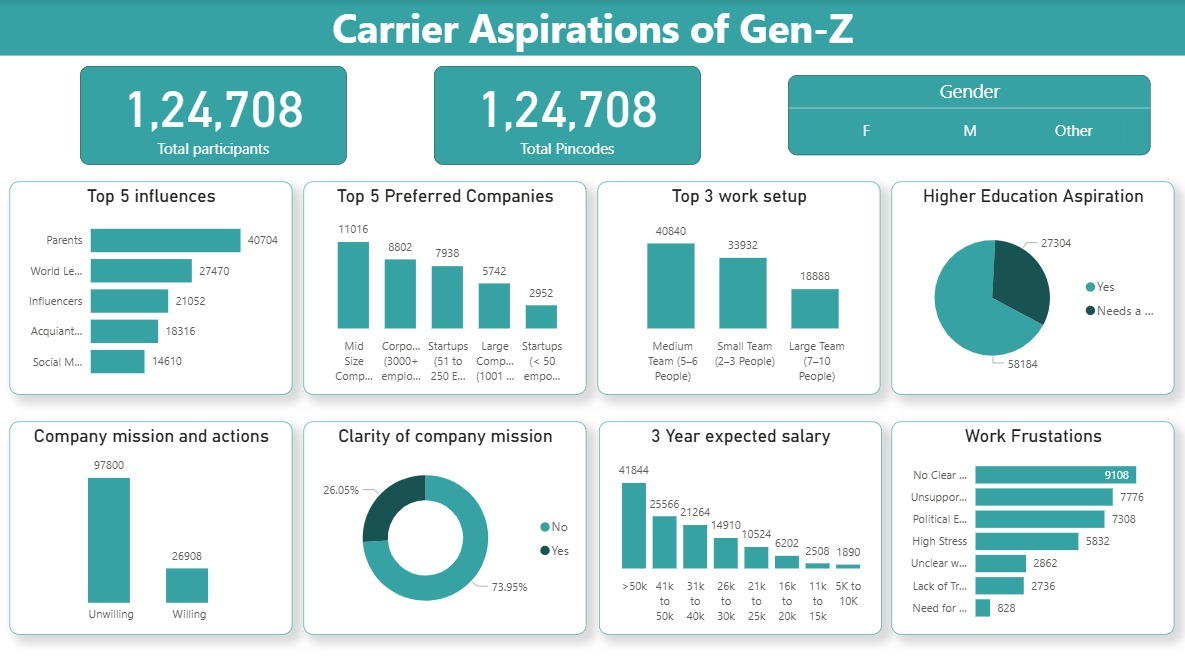

What the dashboard file says about the page in this screenshot:
{"tool":"powerbi","page":{"name":"Page 1","canvas":[1280,720],"ordinal":0},"visuals":[{"type":"slicer","title":"Gender","fields":{"Values":["Table1_2. Gender"]},"box":[852.2,81.6,391.2,86.6],"z":0},{"type":"barChart","title":"Top 5 influences","fields":{"Category":["Table1_2.Influencing Factors"],"Y":["CountNonNull(Table1_2.Influencing Factors)"]},"box":[11.7,196.4,305,230],"z":1000},{"type":"columnChart","title":"Top 5 Preferred Companies ","fields":{"Category":["Table1_2.Preferred Company Type"],"Y":["CountNonNull(Table1_2.Preferred Company Type)"]},"box":[329,196.4,305,230],"z":2000},{"type":"columnChart","title":"Top 3 work setup","fields":{"Category":["Table1_2.Preferred Work Setup"],"Y":["CountNonNull(Table1_2.Preferred Work Setup)"]},"box":[646.4,196.4,305,230],"z":3000},{"type":"pieChart","title":"Higher Education Aspiration","fields":{"Category":["Table1_2.Higher Education Aspiration"],"Y":["CountNonNull(Table1_2.Higher Education Aspiration)"]},"box":[963.7,196.4,305,230],"z":4000},{"type":"columnChart","title":"Company mission and actions","fields":{"Category":["Table1_2.Willingness to Work for Misaligned Company"],"Y":["CountNonNull(Table1_2.Willingness to Work for Misaligned Company)"]},"box":[11.7,454.4,305,230],"z":5000},{"type":"donutChart","title":"Clarity of company mission","fields":{"Category":["Table1_2.Willing to work for undefined Mission"],"Y":["CountNonNull(Table1_2.Willing to work for undefined Mission)"]},"box":[327.9,454.4,305,230],"z":6000},{"type":"columnChart","title":"3 Year expected salary","fields":{"Category":["Table1_2.Minimum Monthly Salary (First 3 Years)"],"Y":["CountNonNull(Table1_2.Minimum Monthly Salary (First 3 Years))"]},"box":[647.5,454.4,305,230],"z":7000},{"type":"barChart","title":"Work Frustations","fields":{"Category":["Table1_2.Sources of Frustration at Work"],"Y":["CountNonNull(Table1_2.Sources of Frustration at Work)"]},"box":[963.7,454.4,305,230],"z":8000},{"type":"card","fields":{"Values":["Table1_2.Count"]},"box":[470.2,71.6,288,106.5],"z":9000},{"type":"card","title":"Total Participants","fields":{"Values":["Table1_2.Count"]},"box":[88.2,71.6,288,106.5],"z":10000},{"type":"textbox","box":[0,0,1281.7,59.9],"z":11000}]}

Visuals, with their boxes in screenshot pixels (x1, y1, x2, y2), scaled from the page's 1280x720 canvas onto the 1185x656 screenshot:
"Gender" slicer: bbox(789, 74, 1151, 153)
"Top 5 influences" barChart: bbox(11, 179, 293, 388)
"Top 5 Preferred Companies " columnChart: bbox(305, 179, 587, 388)
"Top 3 work setup" columnChart: bbox(598, 179, 881, 388)
"Higher Education Aspiration" pieChart: bbox(892, 179, 1175, 388)
"Company mission and actions" columnChart: bbox(11, 414, 293, 624)
"Clarity of company mission" donutChart: bbox(304, 414, 586, 624)
"3 Year expected salary" columnChart: bbox(599, 414, 882, 624)
"Work Frustations" barChart: bbox(892, 414, 1175, 624)
card - Table1_2.Count: bbox(435, 65, 702, 162)
"Total Participants" card: bbox(82, 65, 348, 162)
textbox: bbox(0, 0, 1184, 55)
